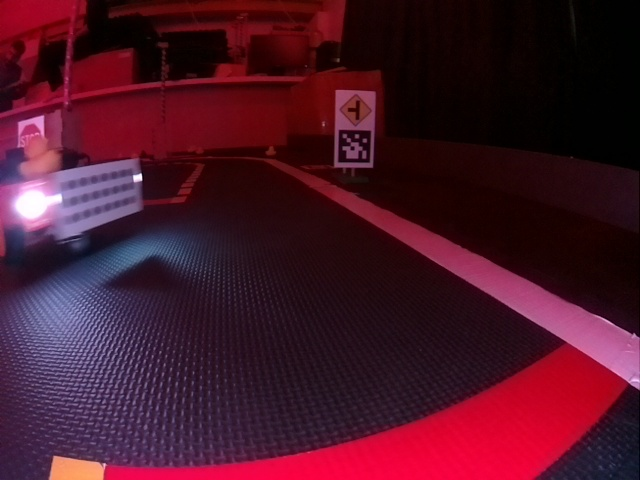Duckie: (19, 146, 62, 177), (267, 147, 276, 155), (196, 147, 204, 155), (187, 146, 196, 153)
Duckiebot: (3, 157, 143, 259)
Intersection sign: (340, 94, 371, 126)
QR code: (337, 132, 371, 164)
Stop sign: (18, 120, 44, 145)
